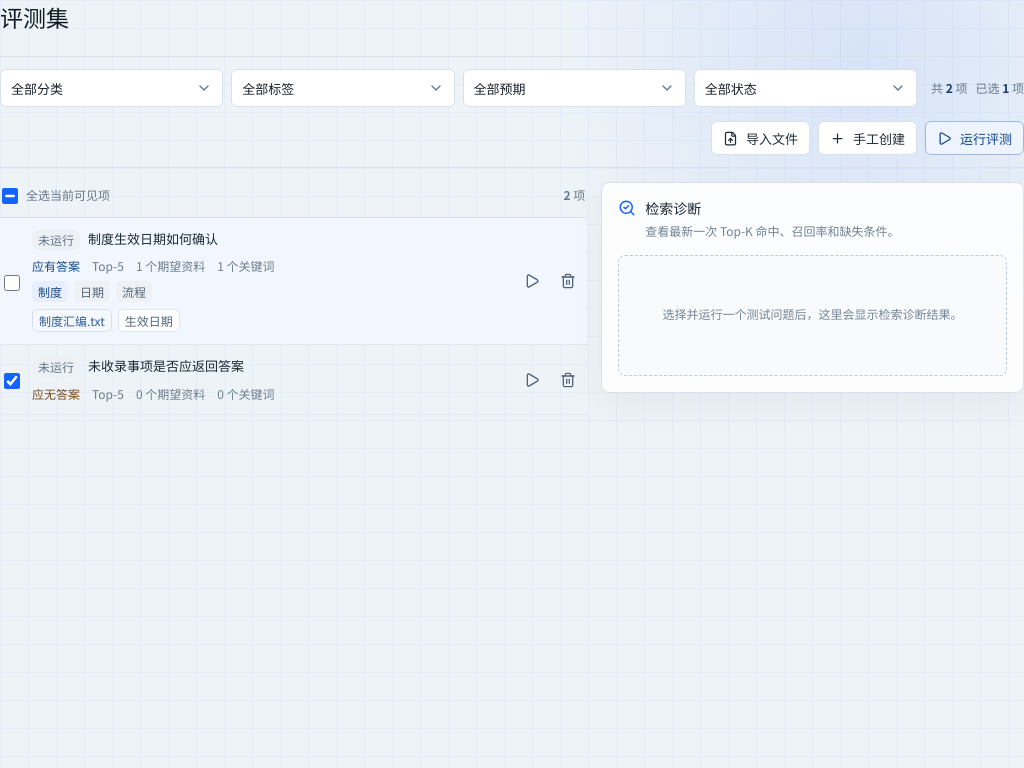
QualityCasesPage › creates a batch from selected IDs and starts polling
Click the button with test id "run-evaluation-batch" at (974, 138), box x1=925 y1=121 x2=1023 y2=155
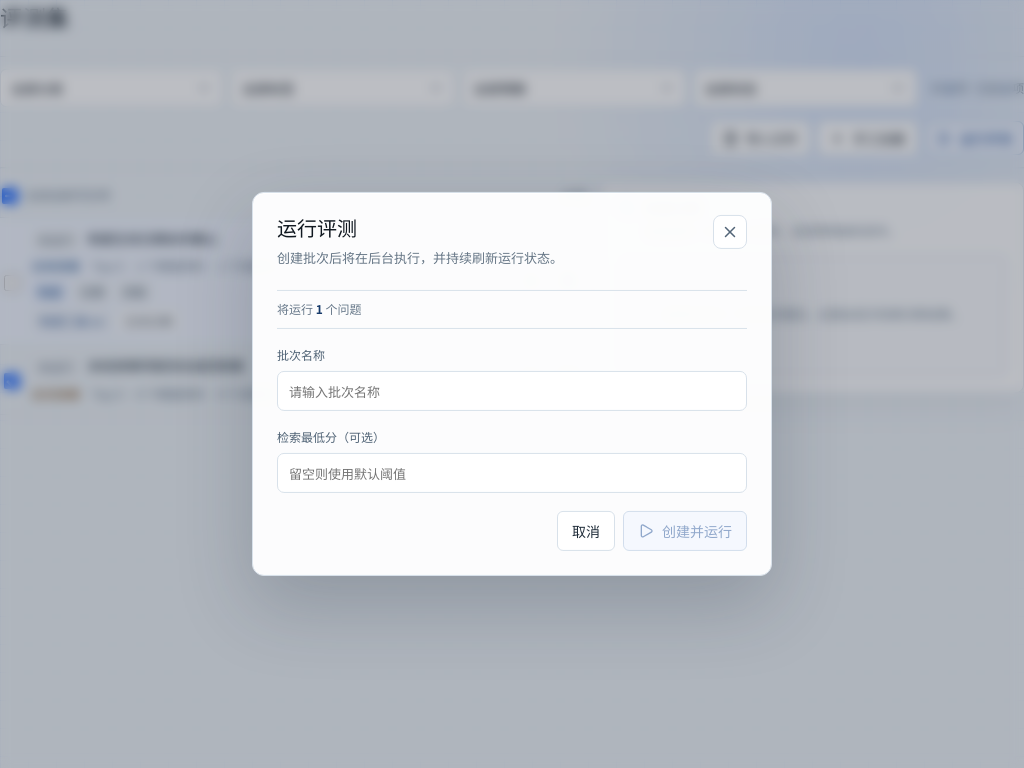
Type "选择项回归" into the field with test id "evaluation-batch-name" at (512, 391), box x1=277 y1=371 x2=747 y2=411
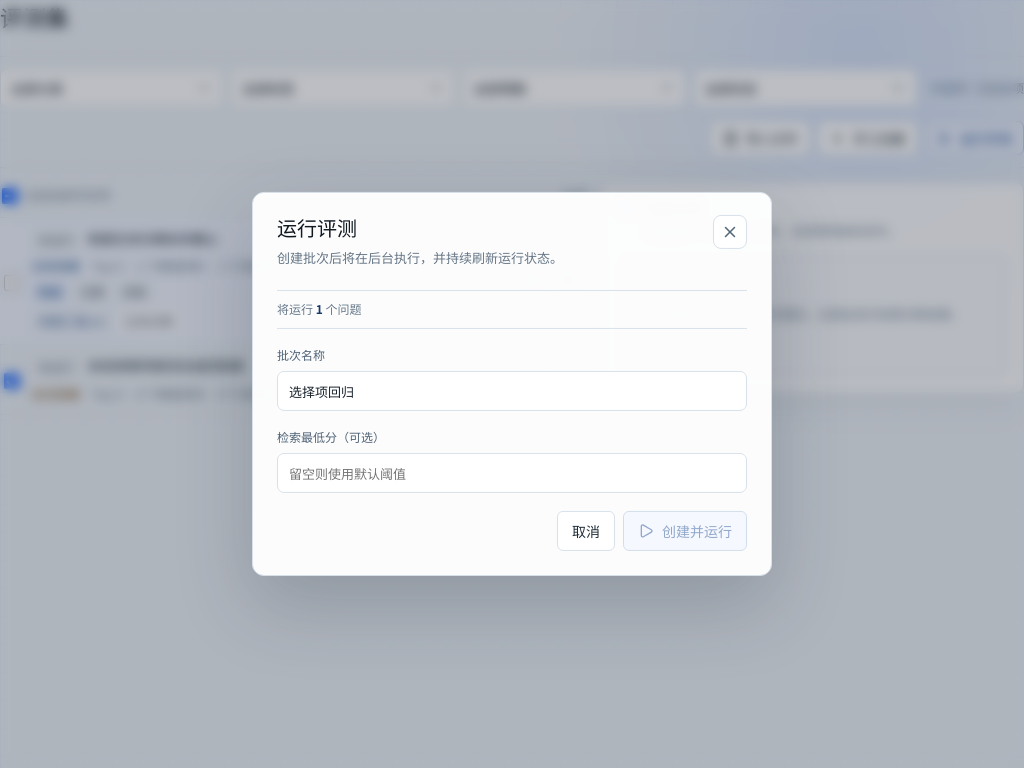
Type "0.45" into the number field with test id "evaluation-retrieval-min-score" at (512, 473), box x1=277 y1=453 x2=747 y2=493
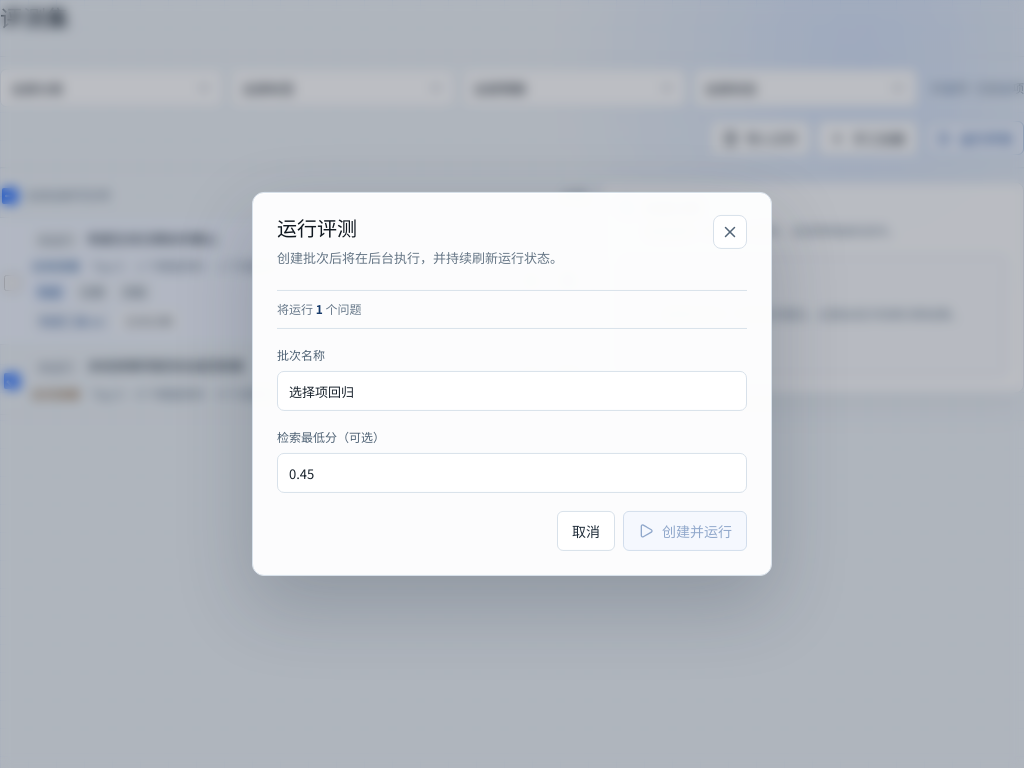
Submit the form with test id "evaluation-batch-form", box x1=277 y1=290 x2=747 y2=551
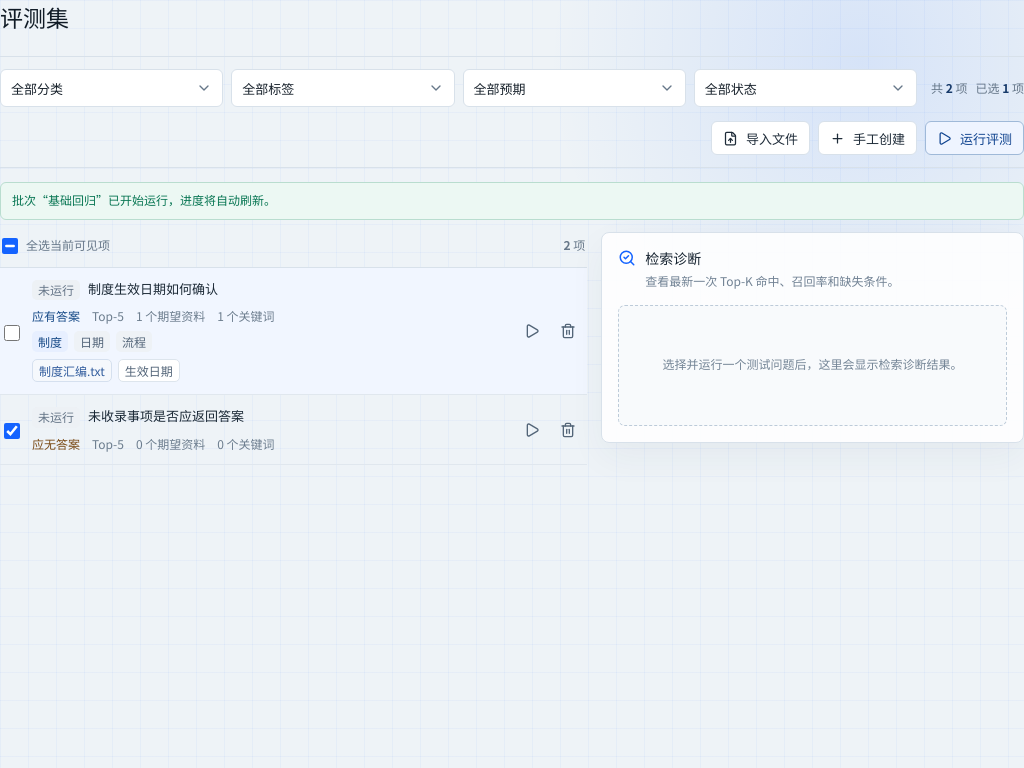
Check: the form with test id "evaluation-batch-form" is gone
